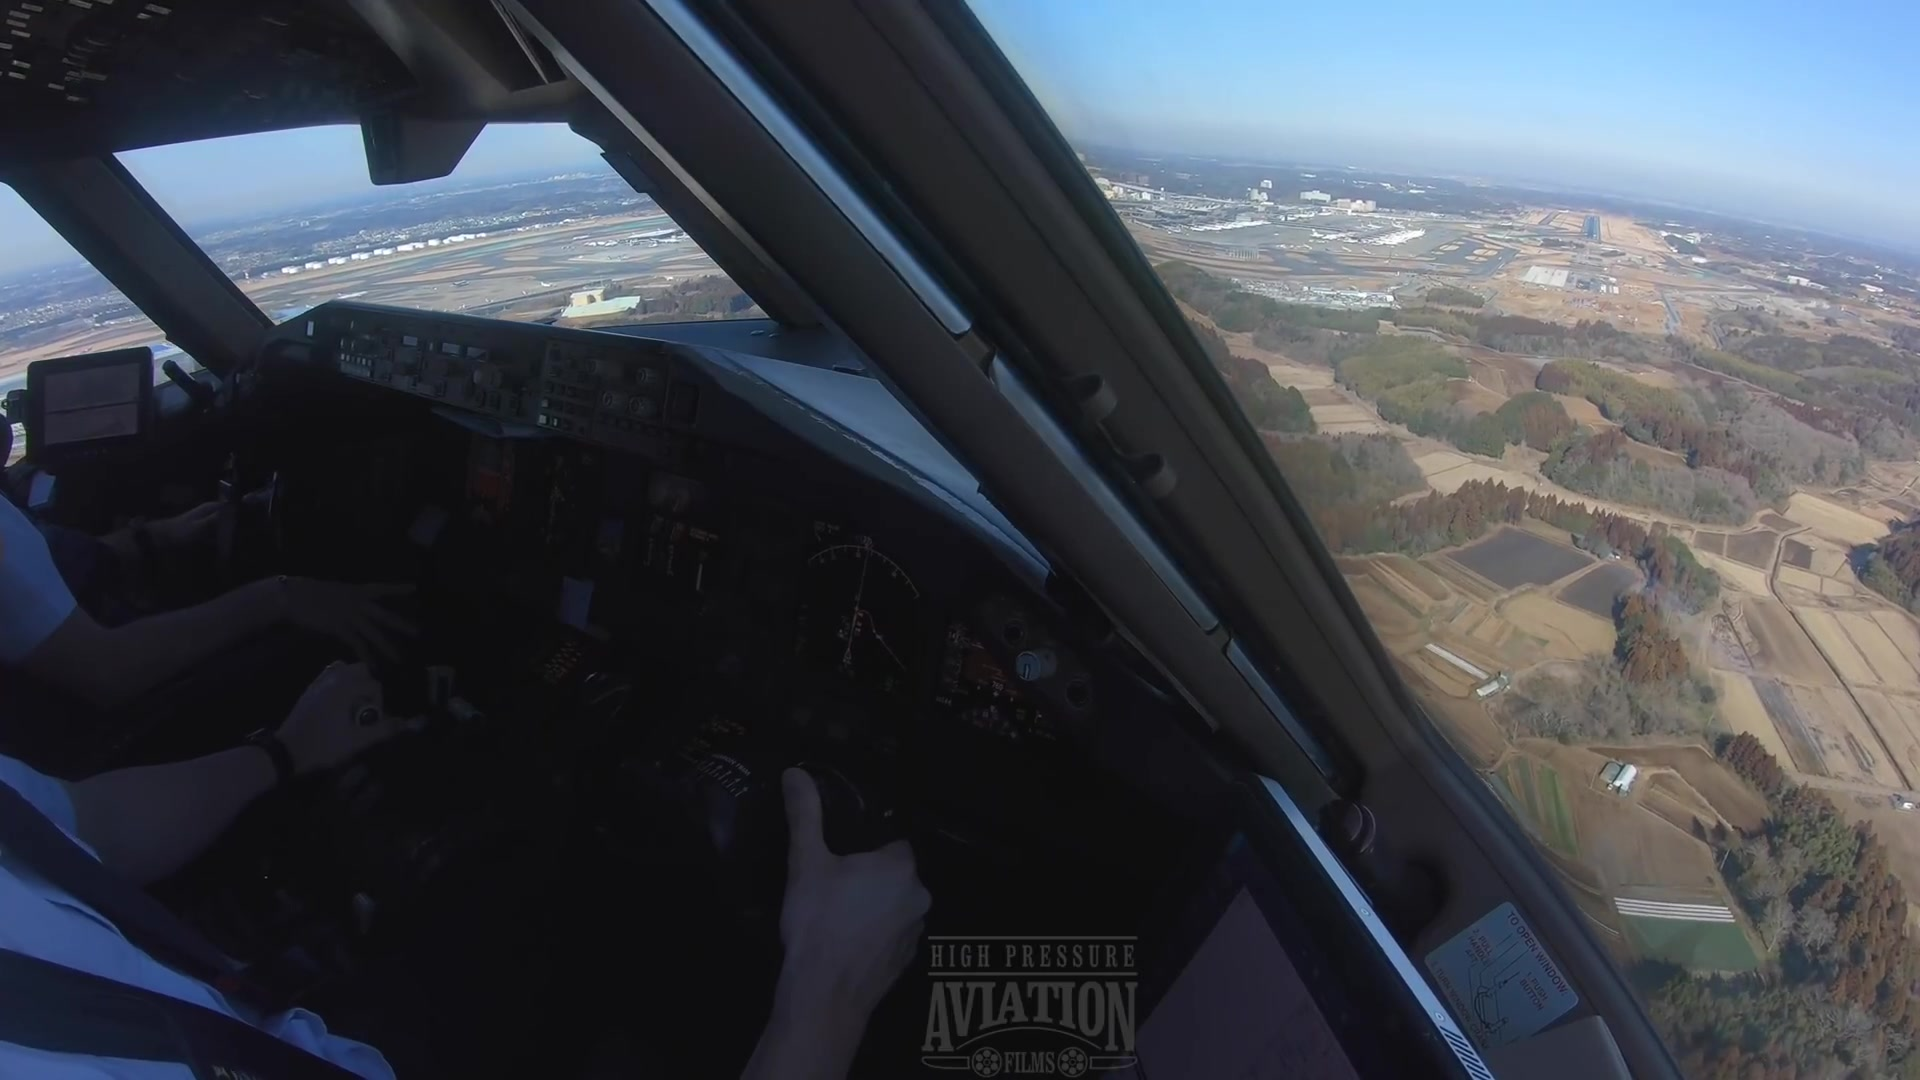runway: (1577, 214, 1602, 245), (1536, 210, 1564, 225)
